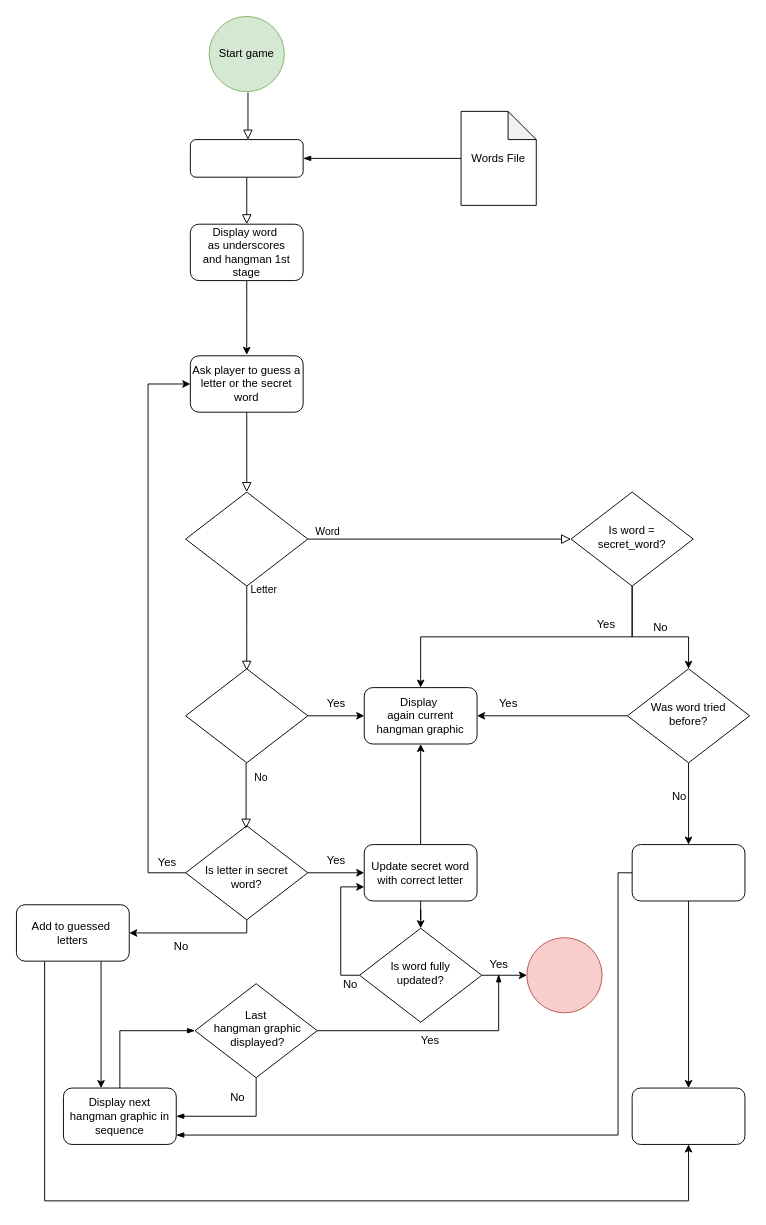
The diagram is 766 pixels wide and 1225 high, and some of its shapes have lost their labels. The shapes that lost their labels are listed below. From the top down, each one's centre as x and y in pixels, then its label:
At (x=246, y=158): "Choose random word".
At (x=246, y=538): "is guess a word or letter ?".
At (x=246, y=715): "Was letter tried previously?".
At (x=688, y=872): "Add to guessed words".
At (x=564, y=975): "End".
At (x=688, y=1115): "Reduce remaining attempts".
